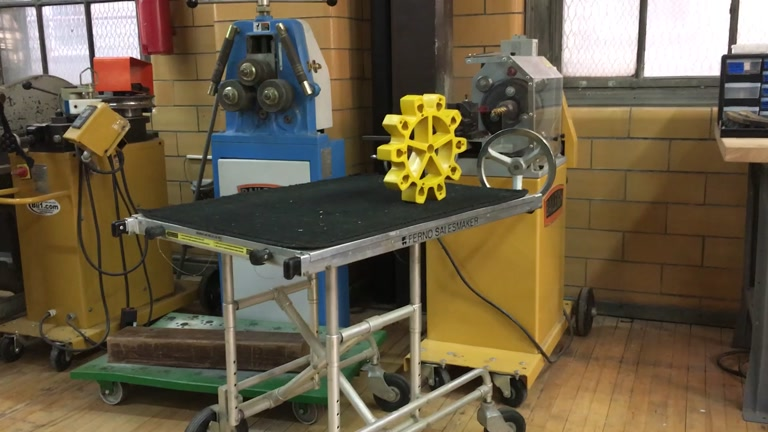gear: (377, 92, 467, 204)
